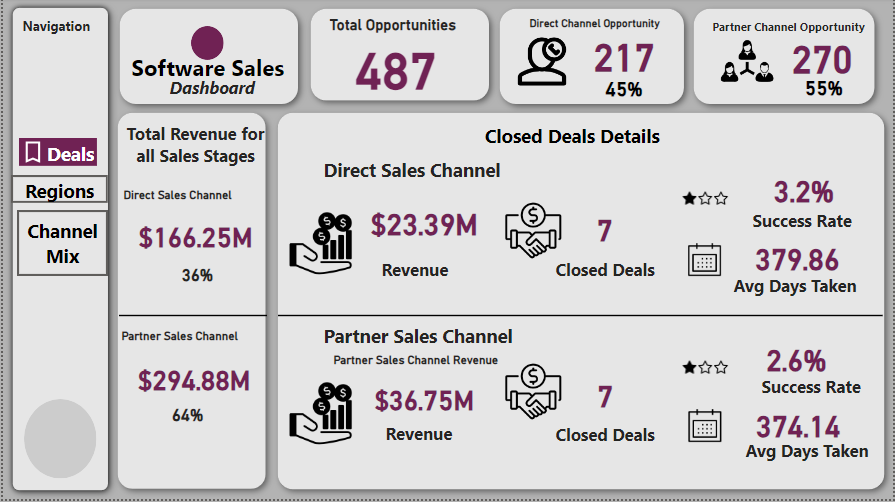

This screenshot's page, from the dashboard's own definition file:
{"tool":"powerbi","page":{"name":"Deals","canvas":[1280,720],"ordinal":0},"visuals":[{"type":"shape","box":[0,0,164.8,721.6],"z":0},{"type":"card","title":"Direct Sales Channel ","fields":{"Values":["Measure.All Sales Stage Direct Revenue"]},"box":[167.8,272.5,217.1,117.3],"z":0,"group":"g1"},{"type":"shape","box":[153.1,1.7,284.3,164.8],"z":1000},{"type":"card","title":"Partner Sales Channel","fields":{"Values":["Measure.Partner Revenue for all sales stage"]},"box":[165.3,476.5,218.3,122.4],"z":1000,"group":"g1"},{"type":"textbox","box":[169.6,172.6,214.1,83.4],"z":2000,"group":"g1"},{"type":"textbox","box":[180,72.3,329.7,52.1],"z":2000},{"type":"shape","box":[428.9,1.7,284.3,159.8],"z":3000},{"type":"shape","box":[166.7,435.6,212.7,41.7],"z":3000,"group":"g1"},{"type":"shape","box":[699.7,1.7,292.7,164.8],"z":4000},{"type":"card","fields":{"Values":["Measure.% Total Direct revenue"]},"box":[252.1,359.2,55.8,74.8],"z":4000,"group":"g1"},{"type":"shape","box":[978.9,1.7,287.6,164.8],"z":5000},{"type":"card","fields":{"Values":["Measure.% Total Partner revenue"]},"box":[219.9,556.5,90.5,85],"z":5000,"group":"g1"},{"type":"textbox","box":[233.8,106,222,58.9],"z":6000},{"type":"shape","box":[270.8,40.4,47.1,48.8],"z":7000},{"type":"card","title":"Total Opportunities","fields":{"Values":["Measure.Total Opportunities"]},"box":[464.2,25.9,199.8,115],"z":8000},{"type":"card","fields":{"Values":["Measure.% Direct opportunity"]},"box":[849.4,100.9,85.8,57.2],"z":9000},{"type":"card","fields":{"Values":["Measure.% partner opportunity"]},"box":[1128.6,89.1,102.6,79.1],"z":10000},{"type":"card","title":"Direct Channel Opportunity","fields":{"Values":["Measure.Direct Channel Opportunities"]},"box":[751.9,26.9,280.9,85.8],"z":11000},{"type":"card","title":"Partner Channel Opportunity","fields":{"Values":["Measure.Partner Channel Opportunities"]},"box":[1088.3,40.4,178.3,84.1],"z":12000},{"type":"image","box":[731.7,16.8,85.8,148],"z":13000},{"type":"image","box":[992.4,52.1,153.1,77.4],"z":14000},{"type":"textbox","box":[994.1,25.2,269.1,47.1],"z":15000},{"type":"shape","box":[151.4,151.4,240.5,568.5],"z":16000},{"type":"shape","box":[380.8,150.9,899.6,569.1],"z":17000},{"type":"card","title":"Partner Sales Channel Revenue","fields":{"Values":["Measure.Partner Closed Deals Revenue"]},"box":[469.3,509.6,270.8,111],"z":18000},{"type":"card","title":"Direct Sales Channel Revenue","fields":{"Values":["Measure.Direct Closed Deals Revenue"]},"box":[486.1,270.8,238.8,100.9],"z":19000},{"type":"group","id":"g1","title":"Group 1","box":[165.3,172.6,219.5,468.9],"z":20000},{"type":"textbox","box":[664.7,173.8,305.1,54.5],"z":21000},{"type":"shape","box":[395.2,446.9,869.5,18.7],"z":22000},{"type":"card","title":"Partner Sales Closed Deals","fields":{"Values":["Measure.Partner Sales closed Deals"]},"box":[804.8,515.9,120.7,104.9],"z":23000},{"type":"card","title":"Direct Sales Closed Deals","fields":{"Values":["Measure.Direct Sales Conversion Rate"]},"box":[830.9,282.6,67.3,94.2],"z":24000},{"type":"card","title":"Avg Days Taken","fields":{"Values":["Measure.AVG days Taken to Close Direct Deals"]},"box":[1044.5,343.1,193.4,55.5],"z":25000},{"type":"card","title":"Avg Days Taken","fields":{"Values":["Measure.AVG days Taken to Close Partner Deals"]},"box":[1042.8,573.6,198.5,75.7],"z":26000},{"type":"textbox","box":[455.1,223.3,300,51.1],"z":27000},{"type":"textbox","box":[455.8,460.9,299.4,52.1],"z":28000},{"type":"textbox","box":[538.2,368.4,134.6,45.4],"z":29000},{"type":"textbox","box":[545,603.8,134.6,45.4],"z":30000},{"type":"textbox","box":[1044.5,390.2,217,45.4],"z":31000},{"type":"textbox","box":[788.9,368.4,169.9,45.4],"z":32000},{"type":"textbox","box":[788.9,605.5,168.2,45.4],"z":33000},{"type":"textbox","box":[1061.3,627.4,205.2,45.4],"z":34000},{"type":"card","title":"Success Rate","fields":{"Values":["Measure.Direct Sales Conversion Rate"]},"box":[1063,211.9,174.9,126.1],"z":35000},{"type":"card","fields":{"Values":["Measure.Partner Sales Conversion Rate"]},"box":[1073.1,474.3,132.9,85.8],"z":36000},{"type":"textbox","box":[1071.4,297.7,169.9,45.4],"z":37000},{"type":"textbox","box":[1084.9,536.6,169.9,45.4],"z":38000},{"type":"textbox","box":[23.5,23.5,116.1,52.1],"z":39000},{"type":"image","box":[968.8,242.2,80.7,89.1],"z":42000},{"type":"image","box":[713.2,282.6,97.6,100.9],"z":43000},{"type":"image","box":[977.2,344.8,62.2,62.2],"z":44000},{"type":"image","box":[402,297.7,107.6,109.3],"z":45000},{"type":"image","box":[402,541.6,107.6,109.3],"z":46000},{"type":"image","box":[713.2,514.7,97.6,100.9],"z":47000},{"type":"image","box":[968.8,486.1,80.7,89.1],"z":48000},{"type":"image","box":[910,583.7,198.5,62.2],"z":49000},{"type":"shape","box":[30.3,576.9,104.3,114.4],"z":51000},{"type":"bookmarkNavigator","box":[0,0,600,50],"z":52000},{"type":"actionButton","box":[20.1,304.7,130.8,94.9],"z":53000},{"type":"actionButton","box":[11.5,254.4,139.4,40.2],"z":54000},{"type":"actionButton","box":[23,201.2,112.1,40.2],"z":55000}]}

Visuals, with their boxes in screenshot pixels (x1, y1, x2, y2), scaled from the page's 1280x720 canvas onto the 895x502 screenshot:
shape: 0, 0, 115, 501
"Direct Sales Channel " card: 117, 190, 269, 272
shape: 107, 1, 306, 116
"Partner Sales Channel" card: 116, 332, 268, 418
textbox: 119, 120, 268, 178
textbox: 126, 50, 356, 87
shape: 300, 1, 499, 113
shape: 117, 304, 265, 333
shape: 489, 1, 694, 116
card - Measure.% Total Direct revenue: 176, 250, 215, 303
shape: 684, 1, 886, 116
card - Measure.% Total Partner revenue: 154, 388, 217, 447
textbox: 163, 74, 319, 115
shape: 189, 28, 222, 62
"Total Opportunities" card: 325, 18, 464, 98
card - Measure.% Direct opportunity: 594, 70, 654, 110
card - Measure.% partner opportunity: 789, 62, 861, 117
"Direct Channel Opportunity" card: 526, 19, 722, 79
"Partner Channel Opportunity" card: 761, 28, 886, 87
image: 512, 12, 572, 115
image: 694, 36, 801, 90
textbox: 695, 18, 883, 50
shape: 106, 106, 274, 501
shape: 266, 105, 894, 501
"Partner Sales Channel Revenue" card: 328, 355, 517, 433
"Direct Sales Channel Revenue" card: 340, 189, 507, 259
"Group 1" group: 116, 120, 269, 447
textbox: 465, 121, 678, 159
shape: 276, 312, 884, 325
"Partner Sales Closed Deals" card: 563, 360, 647, 433
"Direct Sales Closed Deals" card: 581, 197, 628, 263
"Avg Days Taken" card: 730, 239, 866, 278
"Avg Days Taken" card: 729, 400, 868, 453
textbox: 318, 156, 528, 191
textbox: 319, 321, 528, 358
textbox: 376, 257, 470, 289
textbox: 381, 421, 475, 453
textbox: 730, 272, 882, 304
textbox: 552, 257, 670, 289
textbox: 552, 422, 669, 454
textbox: 742, 437, 886, 469
"Success Rate" card: 743, 148, 866, 236
card - Measure.Partner Sales Conversion Rate: 750, 331, 843, 391
textbox: 749, 208, 868, 239
textbox: 759, 374, 877, 406
textbox: 16, 16, 98, 53
image: 677, 169, 734, 231
image: 499, 197, 567, 267
image: 683, 240, 727, 284
image: 281, 208, 356, 284
image: 281, 378, 356, 454
image: 499, 359, 567, 429
image: 677, 339, 734, 401
image: 636, 407, 775, 450
shape: 21, 402, 94, 482
bookmarkNavigator: 0, 0, 420, 35
actionButton: 14, 212, 106, 279
actionButton: 8, 177, 106, 205
actionButton: 16, 140, 94, 168
